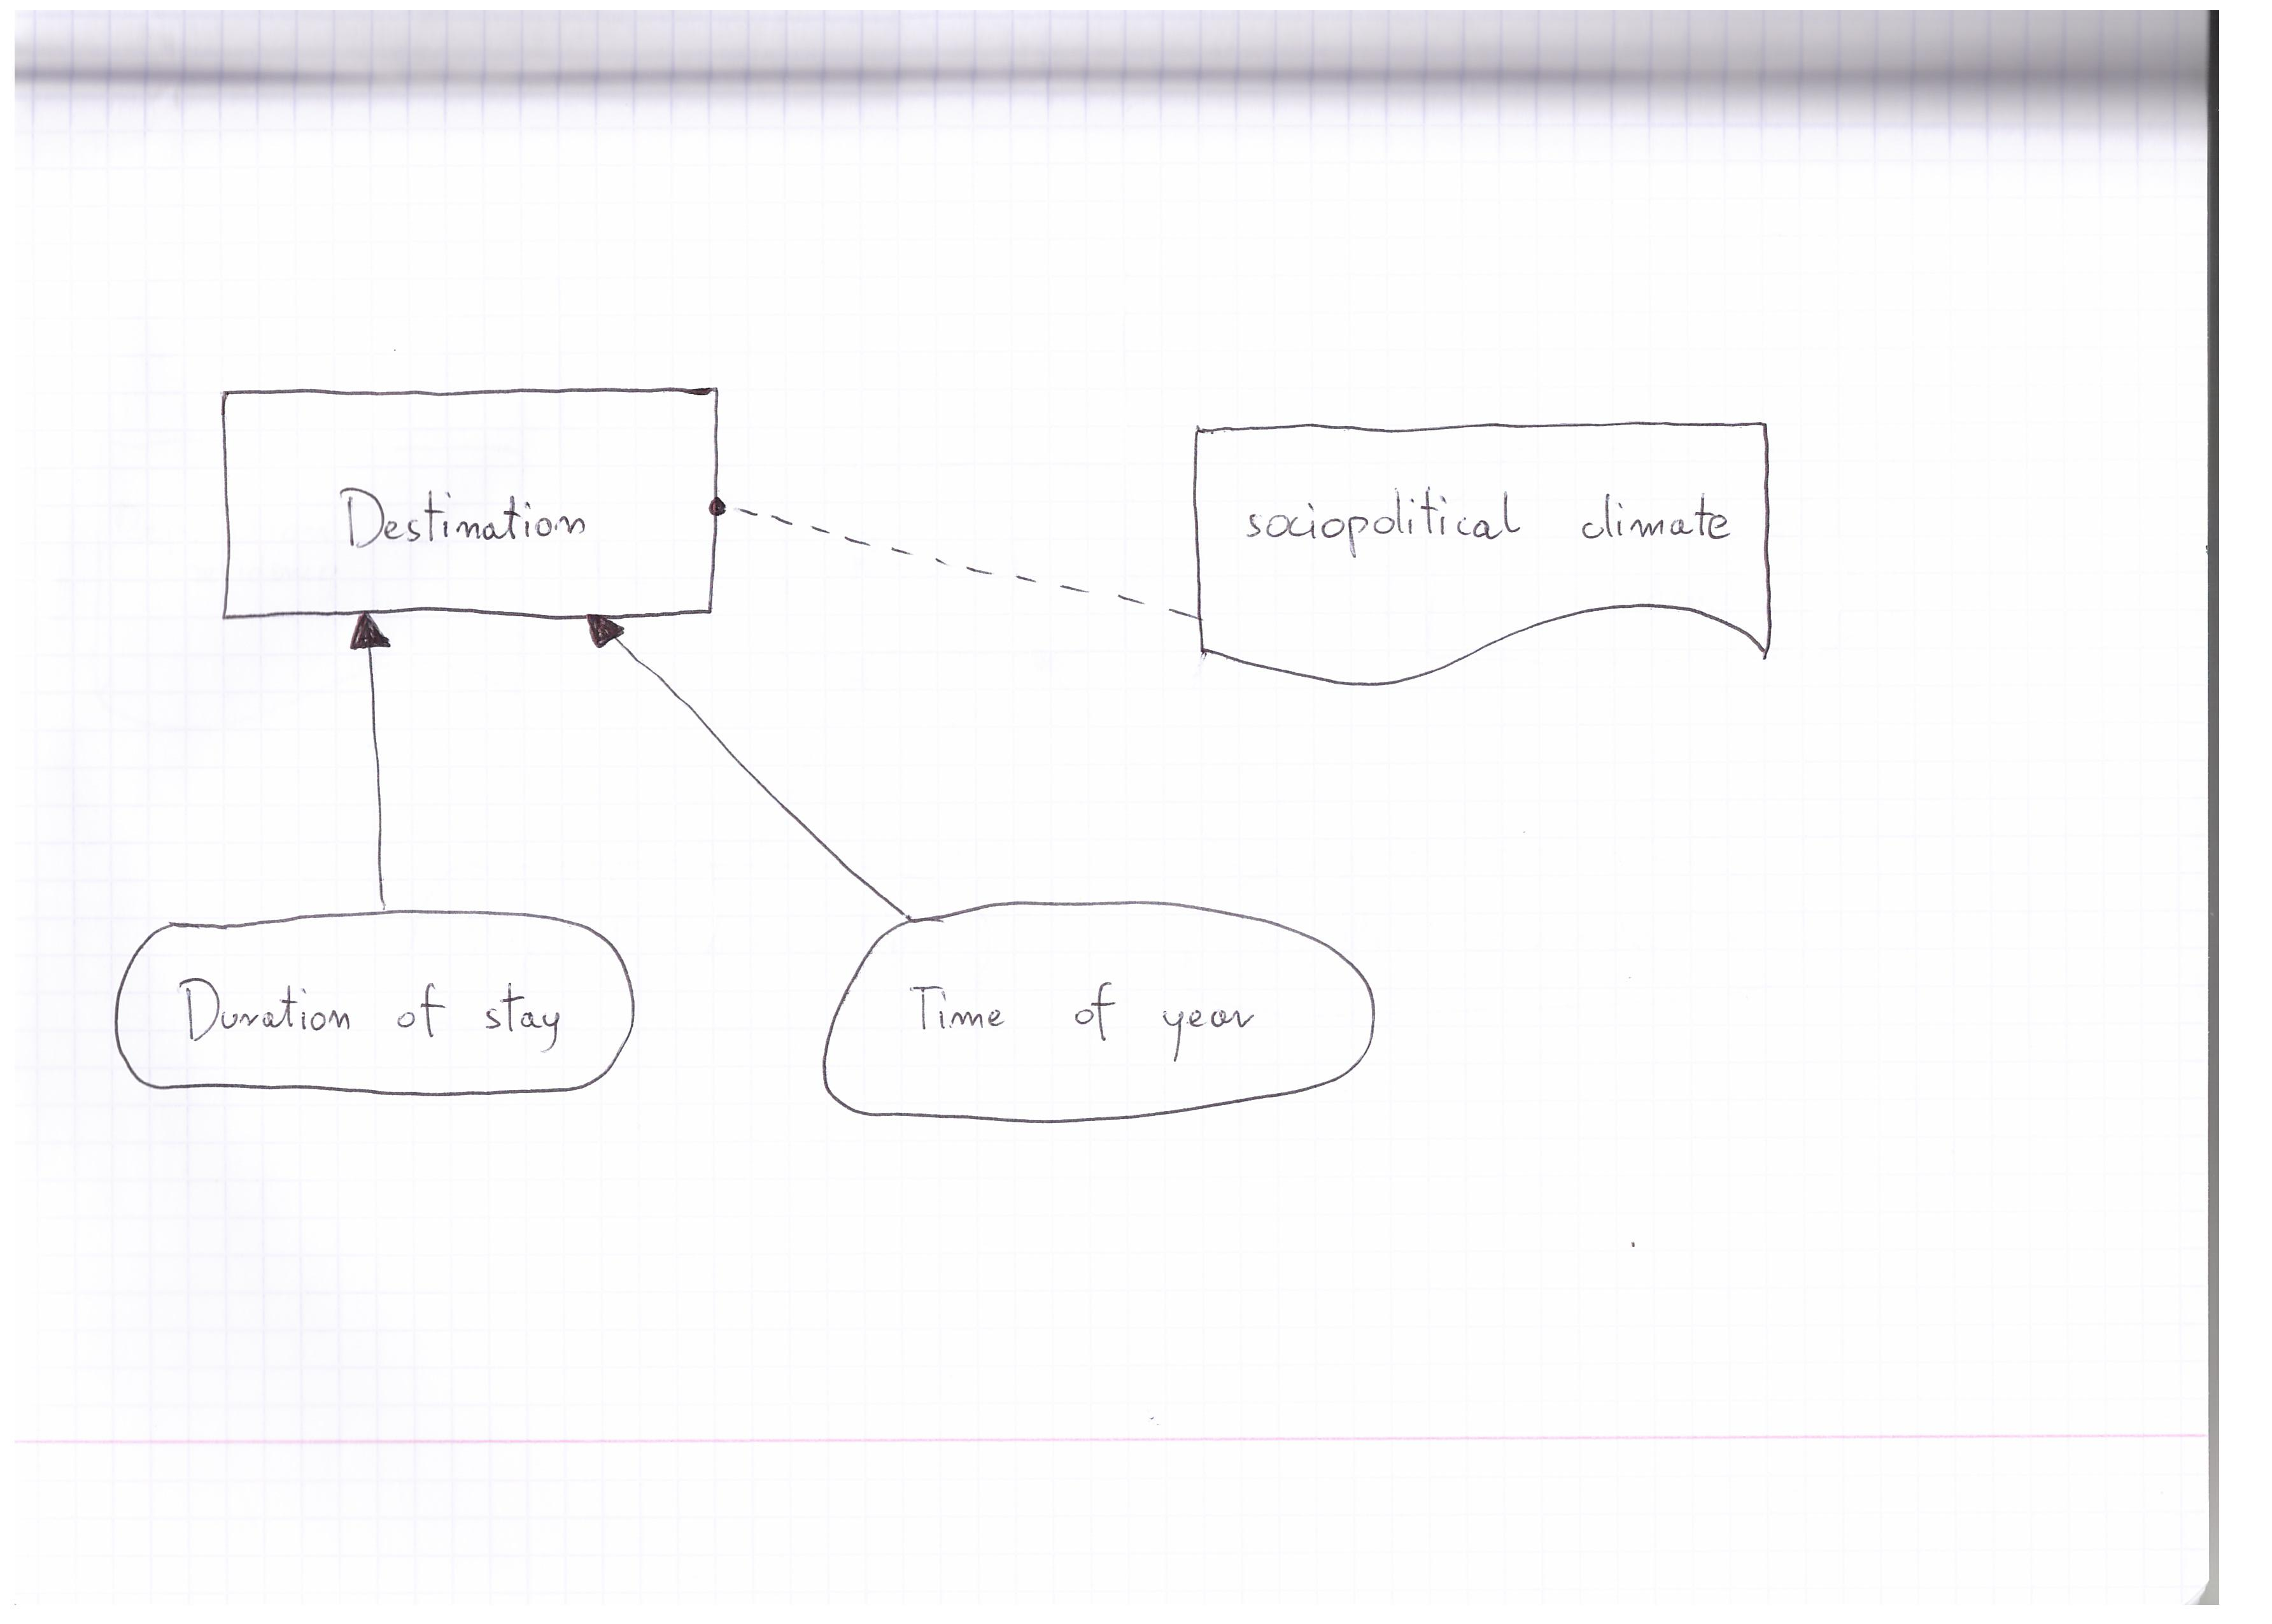arrow_authority_requirement: (703, 482, 1202, 636)
arrow_information_requirement: (564, 612, 915, 919), (337, 608, 406, 909)
node_decision: (211, 378, 720, 624)
node_input_data: (803, 898, 1402, 1139), (105, 903, 657, 1120)
node_knowledge_source: (1183, 417, 1799, 694)
text: (1237, 475, 1745, 575), (893, 967, 1276, 1072), (169, 965, 571, 1063), (325, 466, 596, 562)
